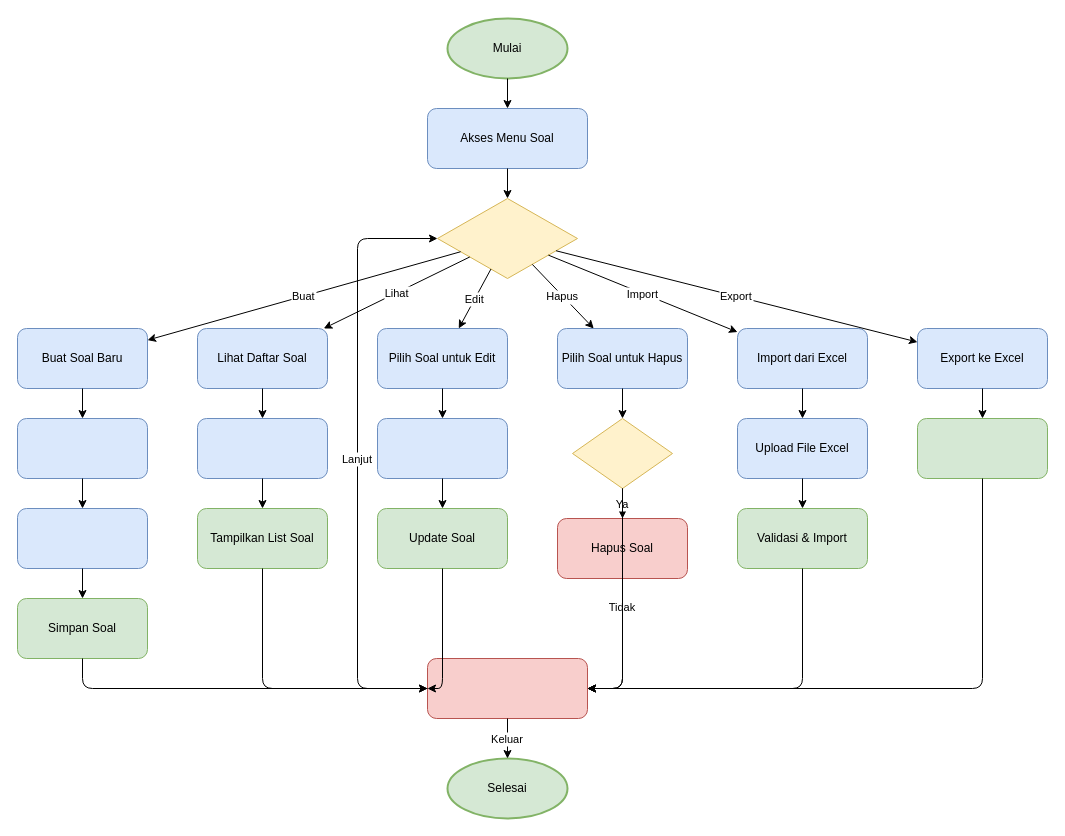
This 1065x836 diagram has some shape labels left out. Each missing label, with the box of its shape:
Download File: (916, 418, 1048, 478)
Edit Soal: (376, 418, 508, 478)
Filter per Kompetensi: (196, 418, 328, 478)
Input Pertanyaan & Jawaban: (16, 508, 148, 568)
Kembali ke Menu: (426, 658, 588, 718)
Konfirmasi?: (572, 418, 672, 488)
Pilih Aktivitas?: (436, 198, 578, 278)
Pilih Tipe Soal (PG/Essay): (16, 418, 148, 478)
